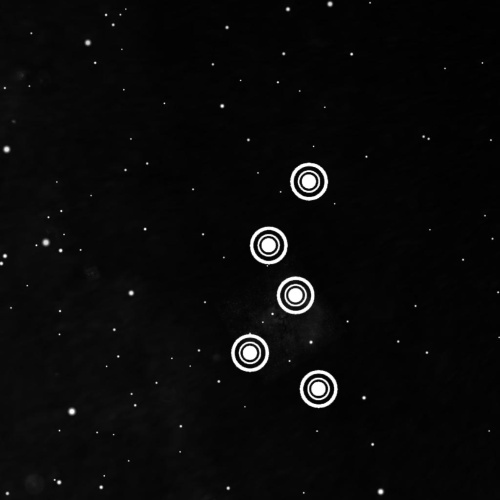cassiopeia: (217, 152, 348, 417)
